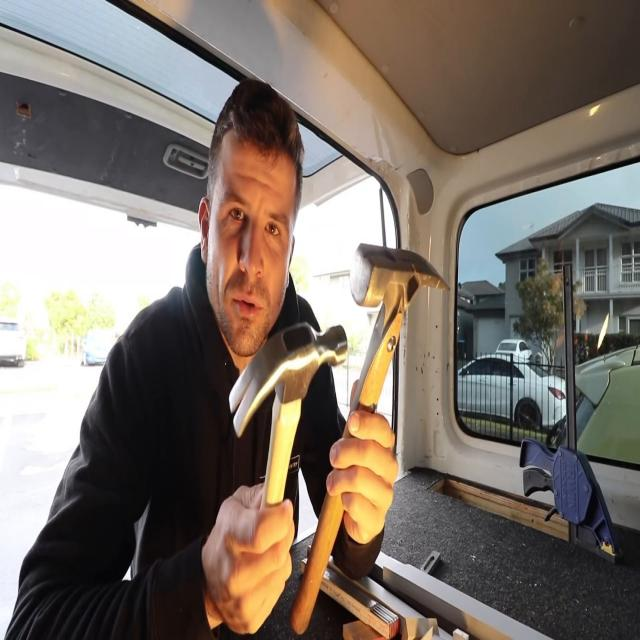hammer: (286, 242, 451, 638), (228, 322, 348, 637)
